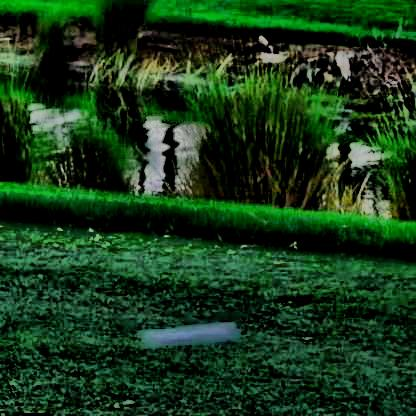golfball: (136, 314, 241, 349)
